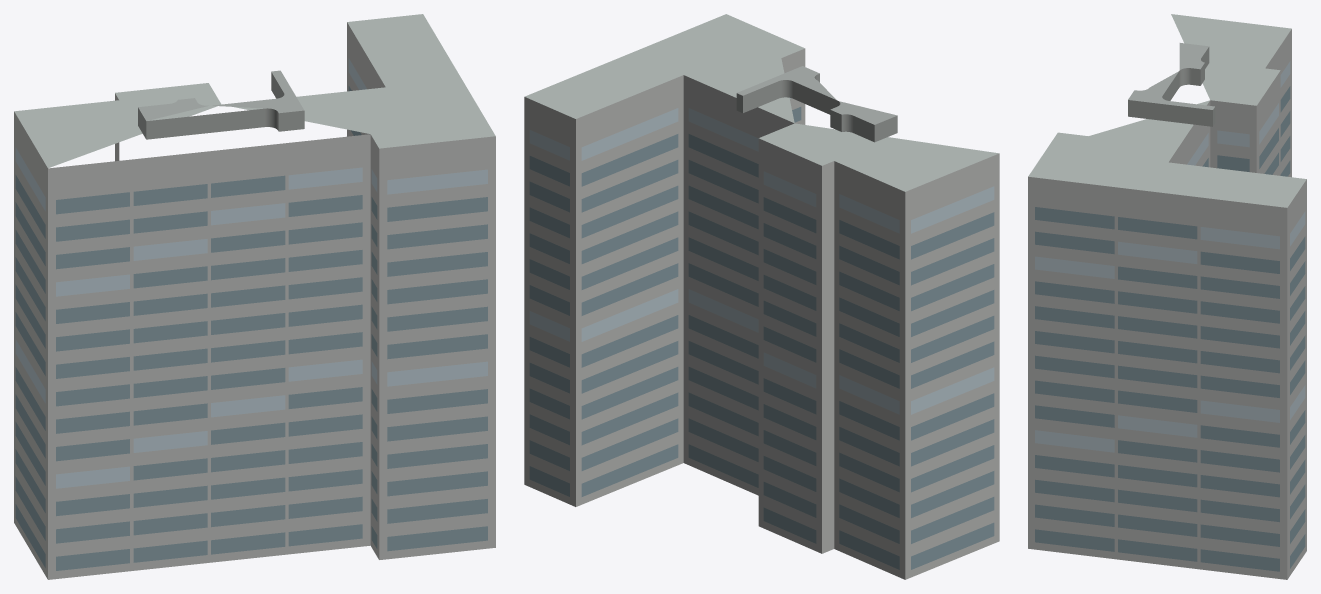
Rendered from fallback-olympic-park-foreon-416.glb.
3 views of the same model, side by side, from view 1: azimuth 30°, elevation 25°; view 2: azimuth 150°, elevation 25°; view 3: azimuth 270°, elevation 25° (orthographic). The views are drawn at different scales.
Visible parts, largest first — view 1: fallback-olympic-park-foreon-416; view 2: fallback-olympic-park-foreon-416; view 3: fallback-olympic-park-foreon-416.
Boxes of the visible parts, left/top/right/bottom form: fallback-olympic-park-foreon-416: left=14, top=14, right=495, bottom=579; fallback-olympic-park-foreon-416: left=524, top=14, right=999, bottom=579; fallback-olympic-park-foreon-416: left=1028, top=14, right=1306, bottom=579.
Bounding box in the file's own units: 51.14 × 47.81 × 31.07.
